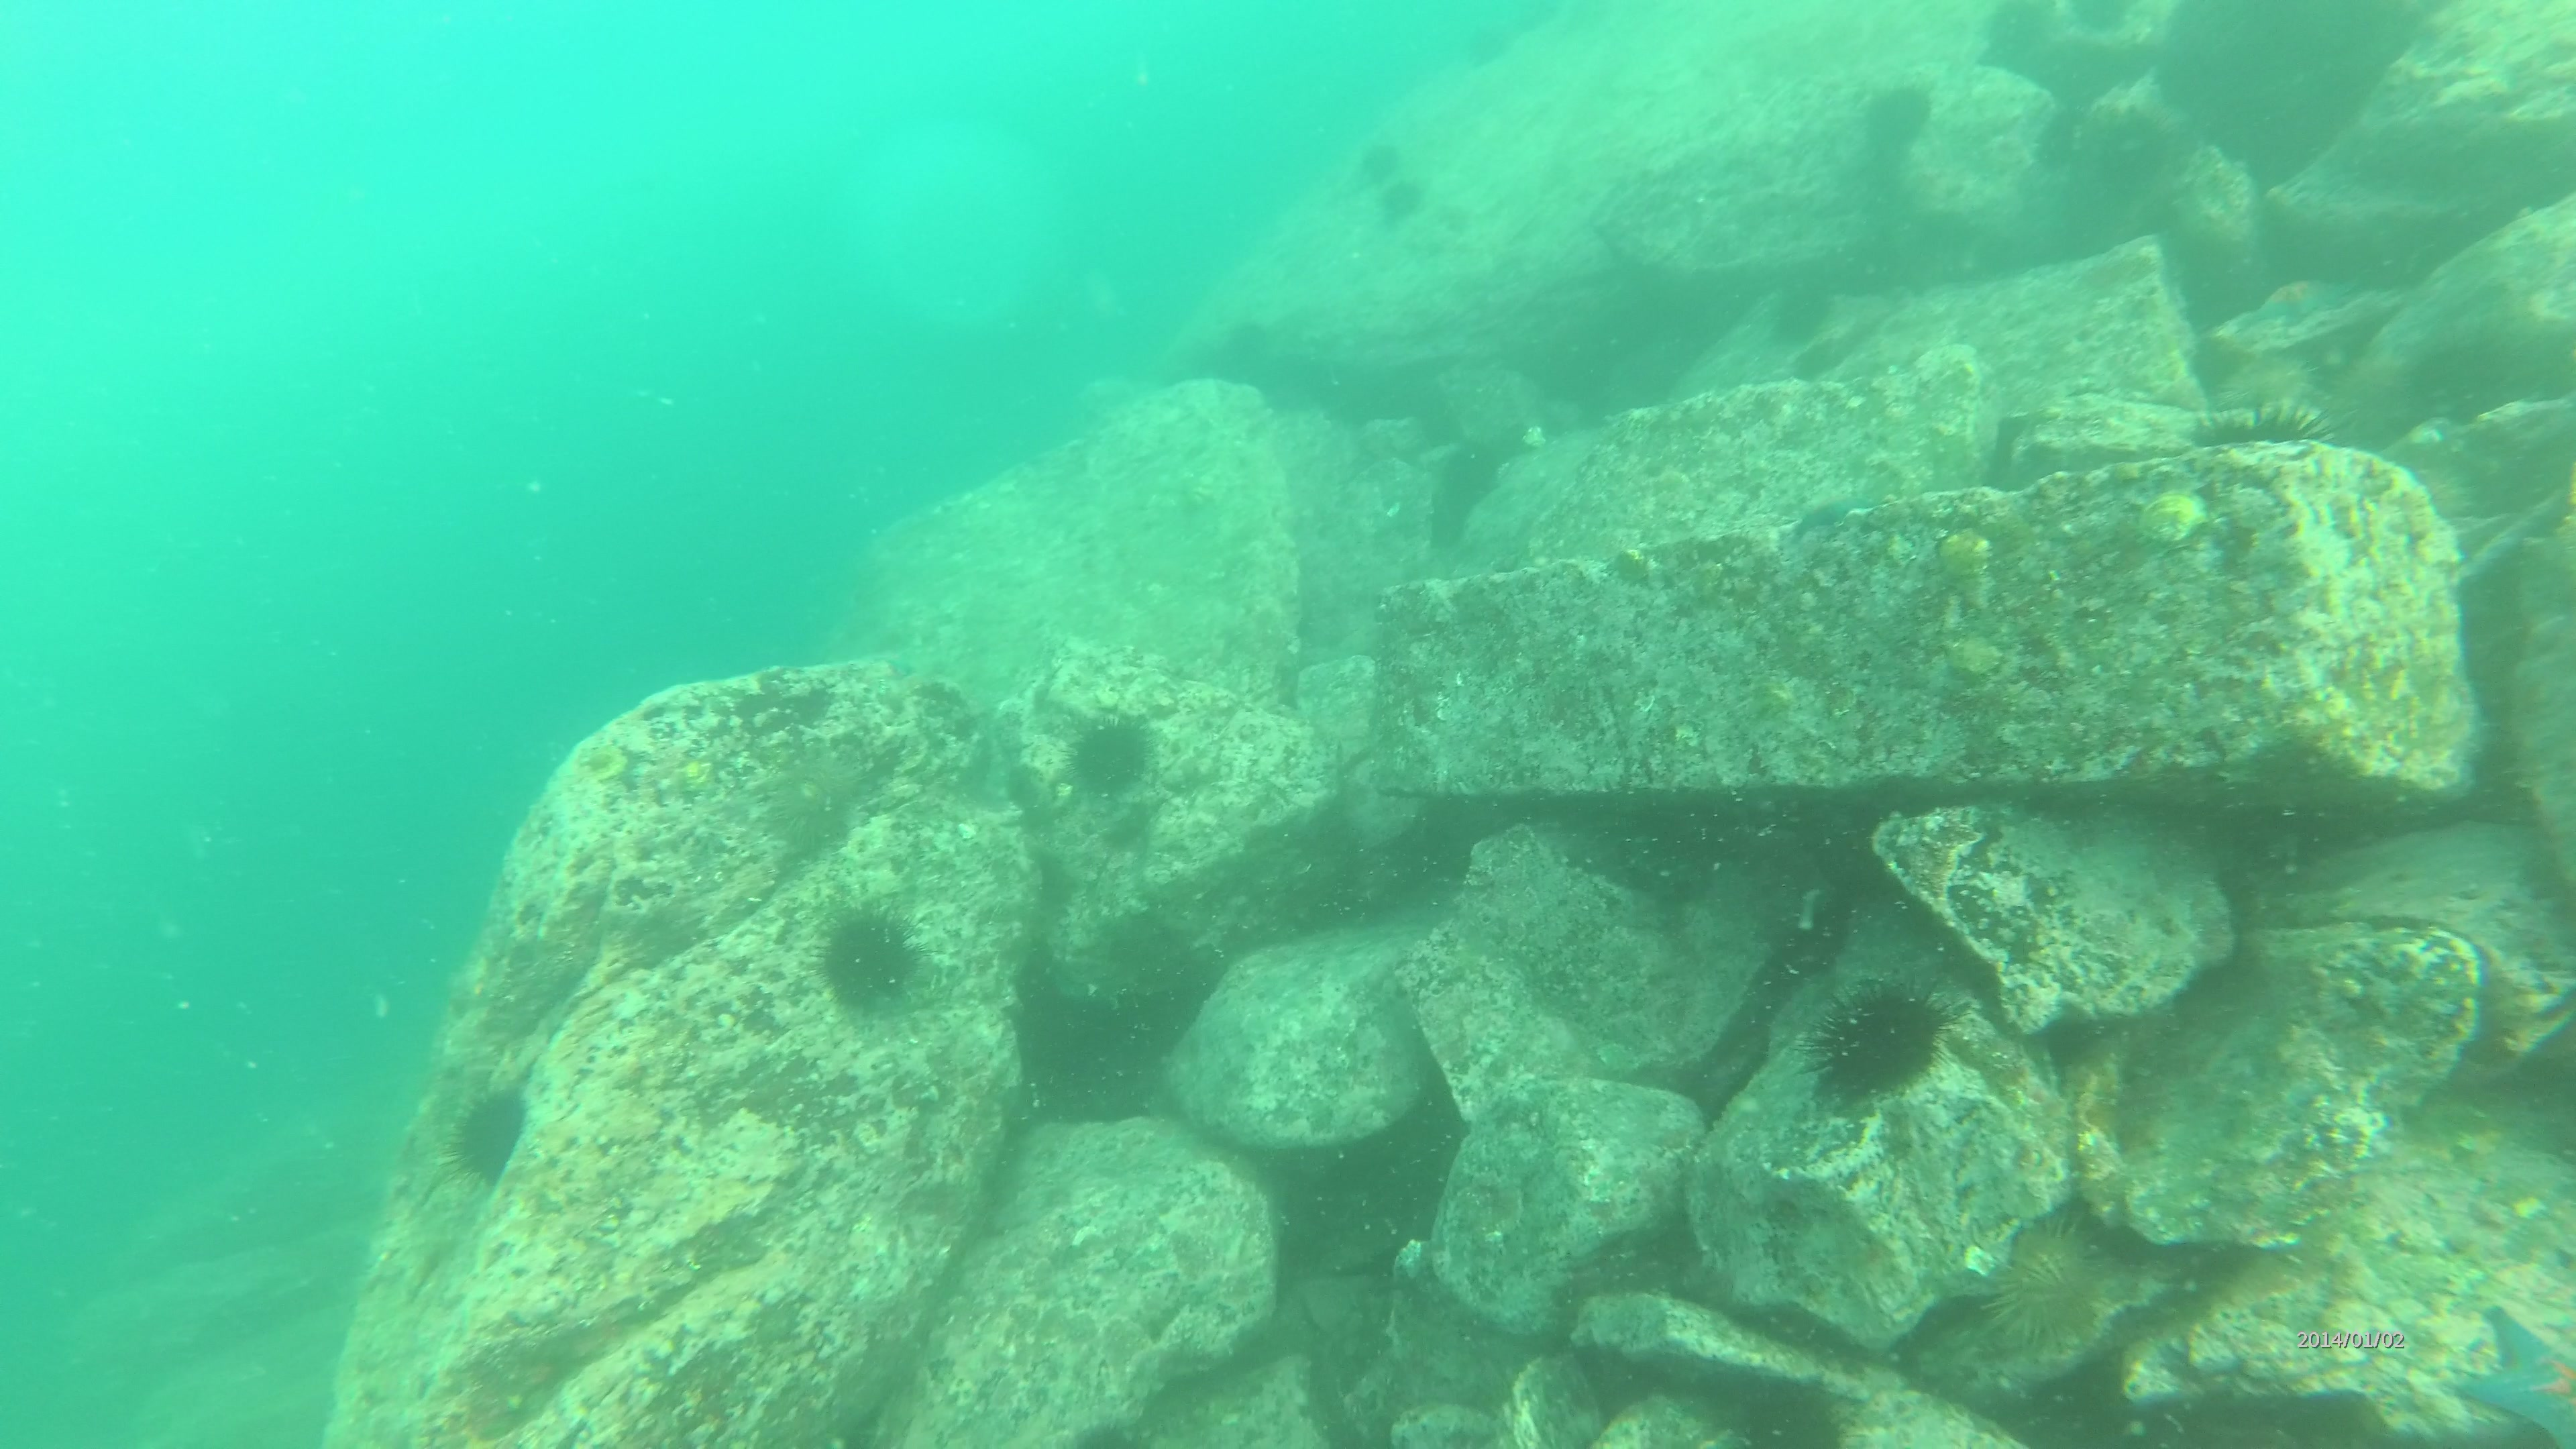echinus: (1796, 968, 1950, 1111), (1973, 1205, 2116, 1350), (812, 902, 929, 1016), (1056, 694, 1161, 816), (2196, 400, 2350, 471), (444, 1074, 536, 1182), (766, 755, 853, 865), (1854, 74, 1944, 154), (1767, 269, 1838, 356), (1985, 0, 2058, 69), (1203, 317, 1270, 386), (1375, 170, 1440, 239), (2072, 0, 2139, 39), (1352, 140, 1401, 184)
starfish: (2457, 1304, 2576, 1449)
